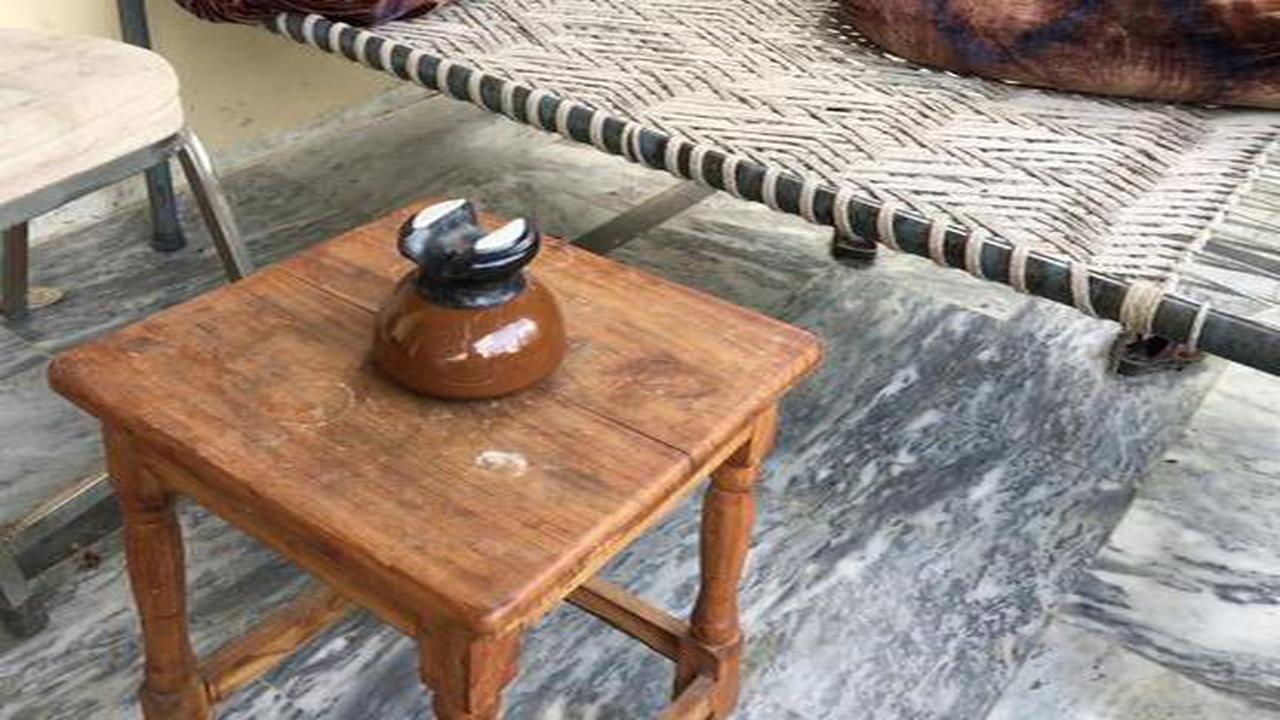insulator_pin: (354, 171, 585, 414)
